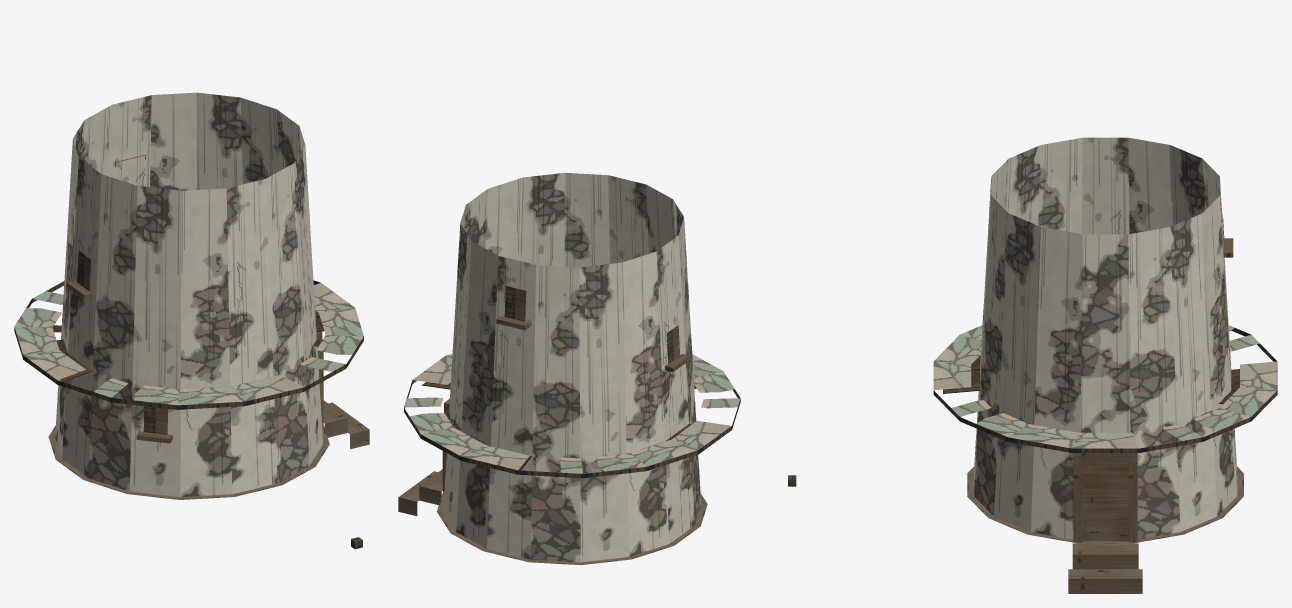
File: moulin_corps_use_0.obj
3 views of the same model, side by side, from view 1: azimuth 30°, elevation 25°; view 2: azimuth 150°, elevation 25°; view 3: azimuth 270°, elevation 25° (orthographic). The views are drawn at different scales.
Visible parts, largest first — view 1: corps; view 2: corps; view 3: corps.
Part boxes in pixels (left/top/right/bottom): corps: left=14, top=92, right=369, bottom=549; corps: left=398, top=172, right=740, bottom=565; corps: left=788, top=137, right=1277, bottom=593.
Size of the model in its own units: 8.7 by 13.34 by 12.32.
